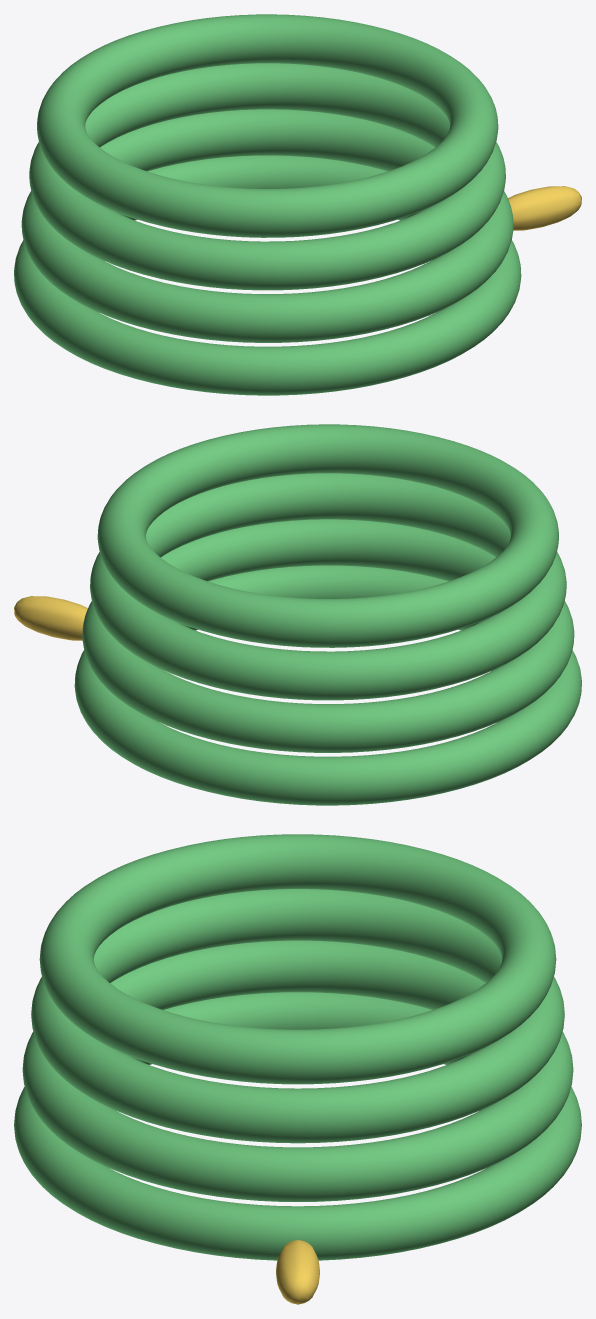
The model's file is garden_hose.glb.
3 renders of one model, top to bottom at view 1: azimuth 30°, elevation 25°; view 2: azimuth 150°, elevation 25°; view 3: azimuth 270°, elevation 25°, orthographic. The views are drawn at different scales.
Visible parts, largest first — view 1: garden_hose; view 2: garden_hose; view 3: garden_hose.
Part boxes in pixels (x1,y1,x2,y2): garden_hose: [14, 14, 581, 395]; garden_hose: [14, 424, 581, 805]; garden_hose: [14, 834, 581, 1304].
Size of the model in its own units: 0.7928 by 0.2732 by 0.6523.
